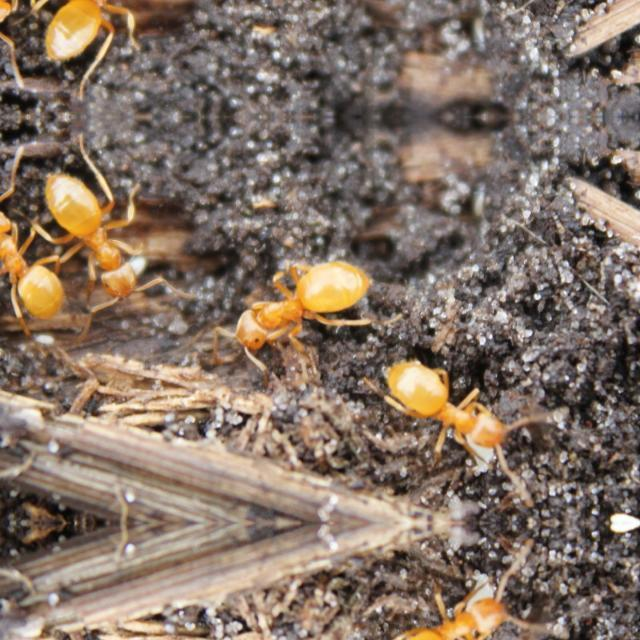Lasius: (364, 340, 544, 478), (36, 143, 170, 310), (216, 255, 380, 378), (364, 566, 544, 640), (35, 0, 168, 88), (0, 195, 76, 335), (0, 0, 76, 36)
